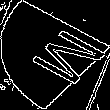M_SE: (7, 21, 103, 89)
